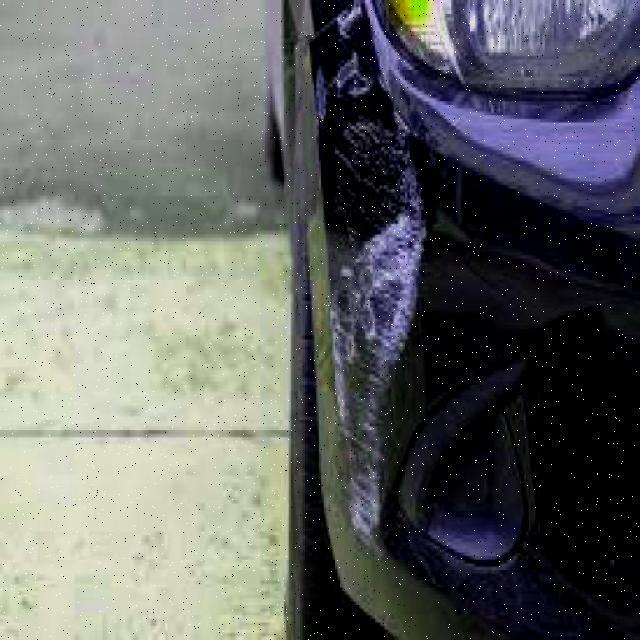car damage: (314, 7, 431, 539)
